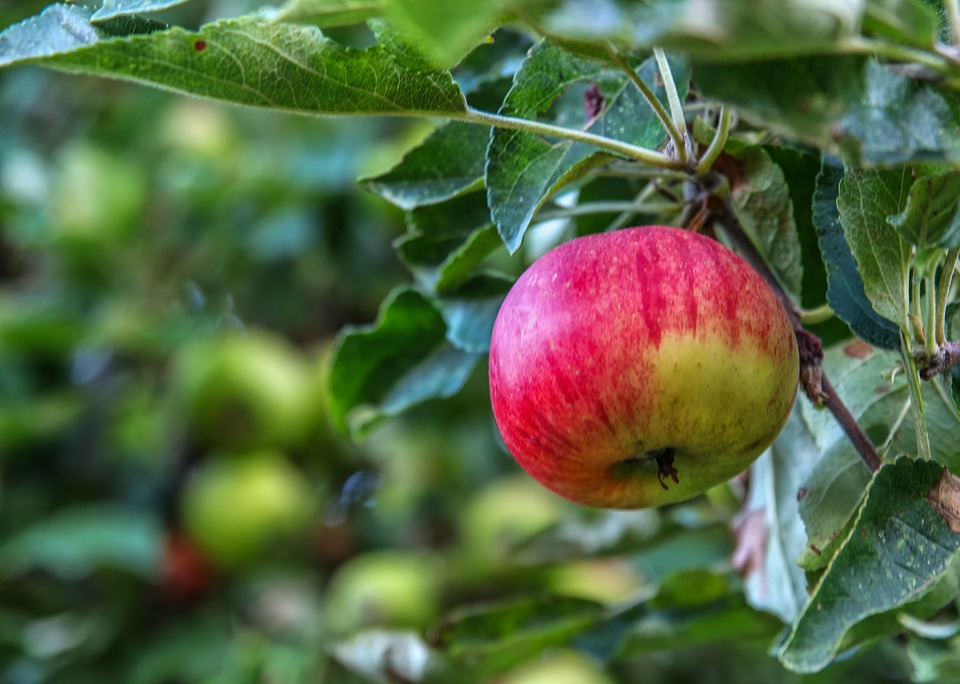apple: (486, 224, 800, 513)
